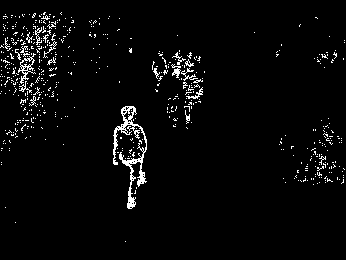person: (111, 106, 149, 213)
